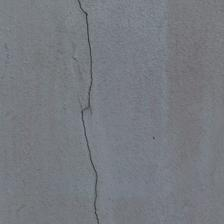Crack: (37, 1, 68, 220)
